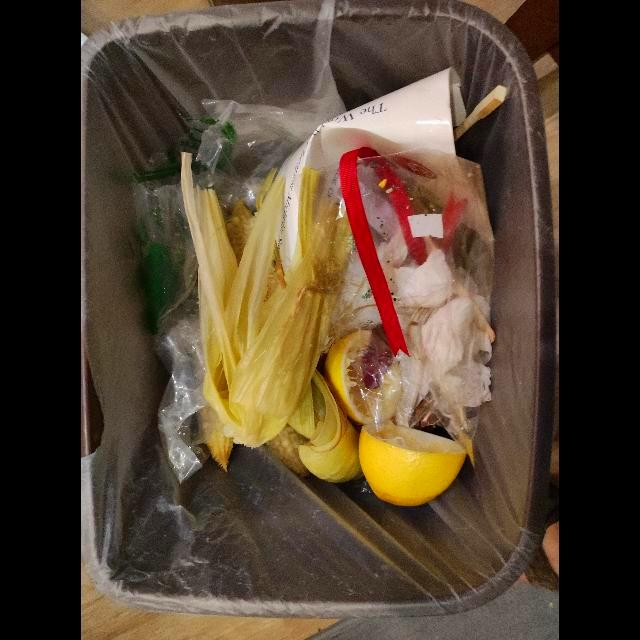cardboard: (278, 68, 468, 276)
plastic_bag: (136, 184, 209, 487)
